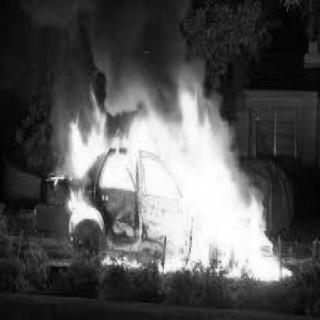Fire: (57, 91, 283, 273)
